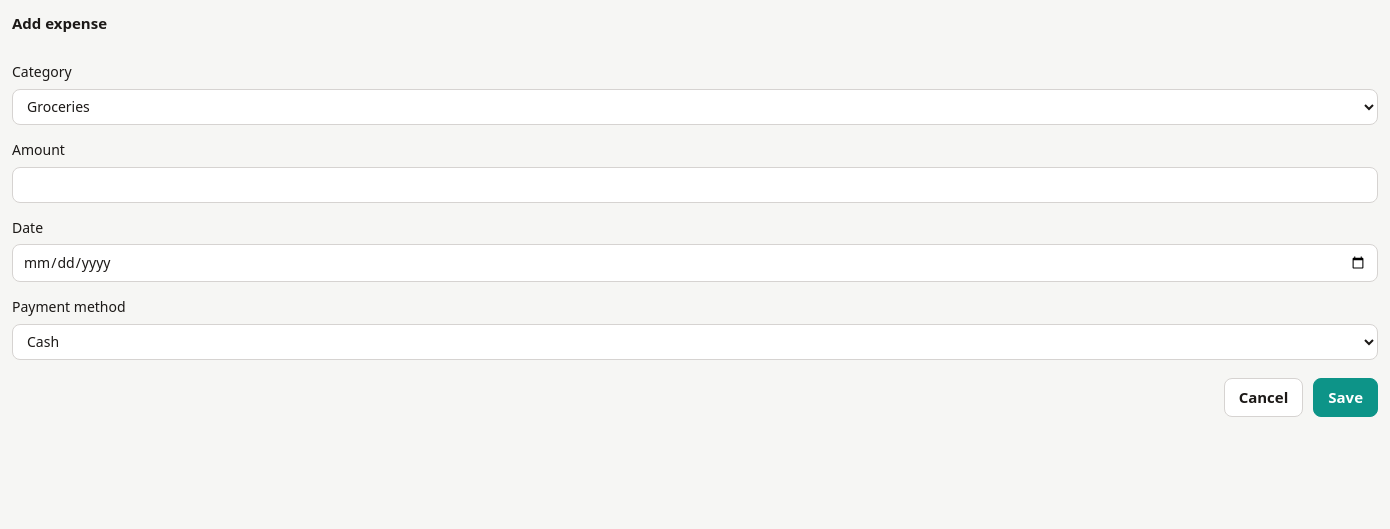
Scenario: ExpenseForm › shows field errors returned by the API
Type "1" into the number field labelled "Amount" at (695, 185), box [12,167,1378,203]
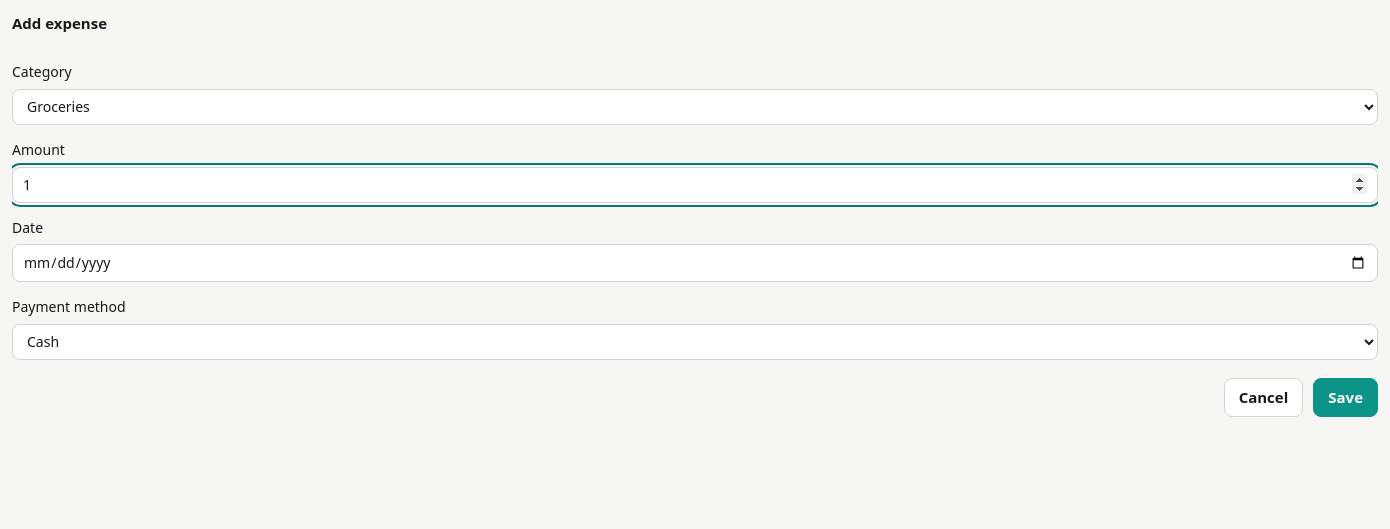
Click the button "Save" at (1346, 397), box [1313,378,1378,417]
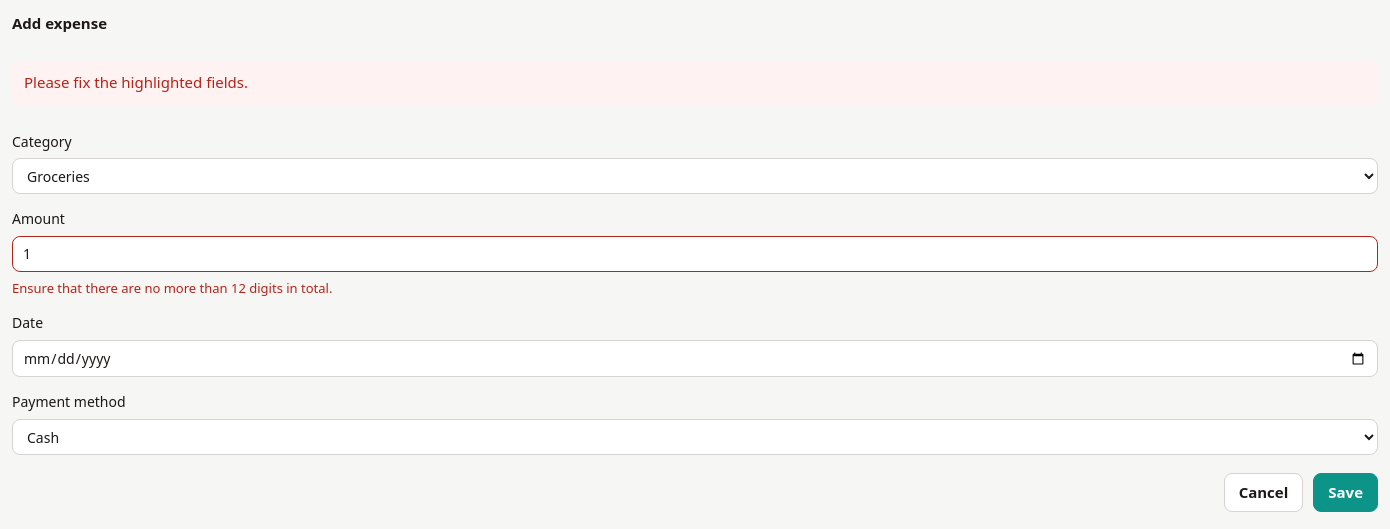
Result: the message reads "Please fix the highlighted fields." at [24,72,248,92]
Result: the text "Ensure that there are no more than 12 digits in total." is shown at [12,279,332,297]
